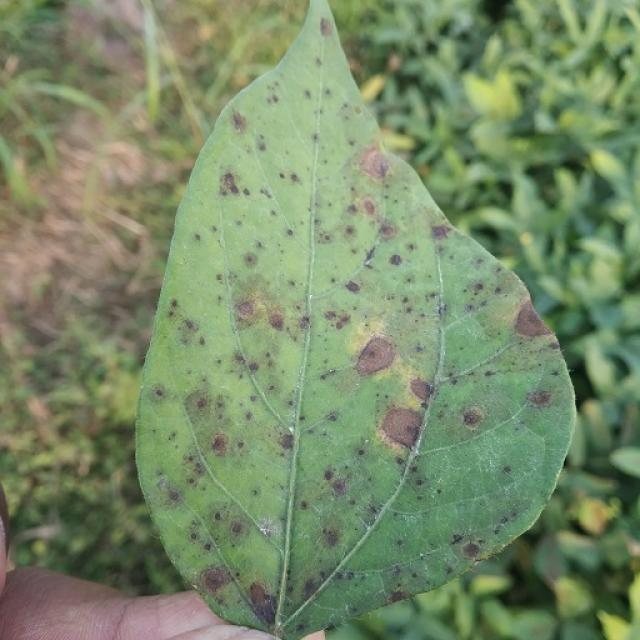Anthracnose: (353, 334, 404, 390), (378, 404, 426, 451), (512, 301, 553, 340), (358, 145, 389, 180), (200, 565, 231, 594), (248, 582, 272, 612), (323, 309, 352, 331), (219, 171, 241, 197), (527, 389, 555, 408), (461, 407, 485, 429), (235, 299, 256, 320), (210, 433, 229, 455), (322, 528, 340, 548), (303, 579, 321, 599), (268, 311, 285, 331), (431, 223, 451, 240), (461, 542, 481, 559), (330, 477, 347, 497), (231, 110, 246, 132), (165, 485, 182, 503), (379, 223, 396, 239), (279, 432, 294, 450), (389, 591, 407, 604), (320, 17, 332, 36), (243, 252, 258, 267), (229, 520, 244, 535), (344, 280, 361, 293), (363, 199, 376, 215), (182, 318, 196, 332), (388, 253, 403, 266), (195, 397, 208, 410), (234, 352, 246, 365), (299, 315, 310, 329), (325, 411, 339, 422), (247, 361, 259, 373), (260, 188, 272, 200), (450, 533, 463, 544), (344, 225, 356, 236), (267, 93, 279, 104), (289, 172, 300, 183), (154, 387, 165, 397), (473, 282, 484, 292), (257, 141, 266, 152), (303, 89, 312, 100), (502, 466, 512, 475), (353, 105, 362, 115), (299, 501, 308, 510), (214, 511, 222, 521), (170, 299, 178, 309), (286, 228, 294, 236)
Blackgram: (138, 0, 574, 639)
